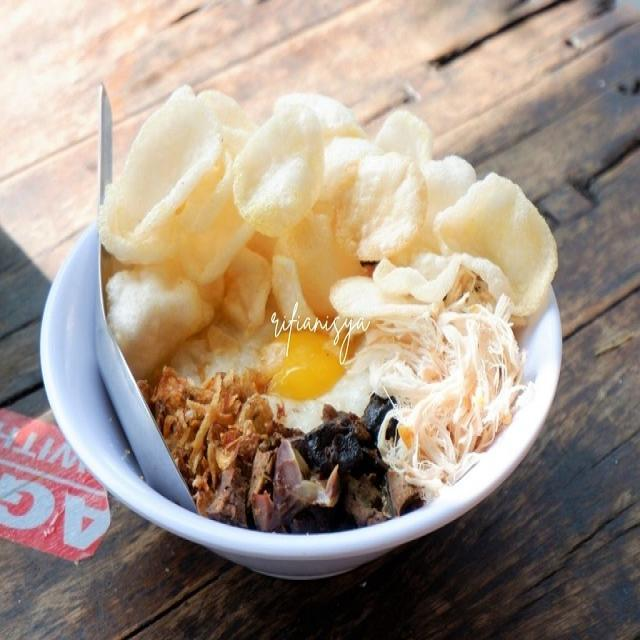bubur ayam: (98, 85, 518, 536)
mangkuk: (33, 79, 561, 578)
